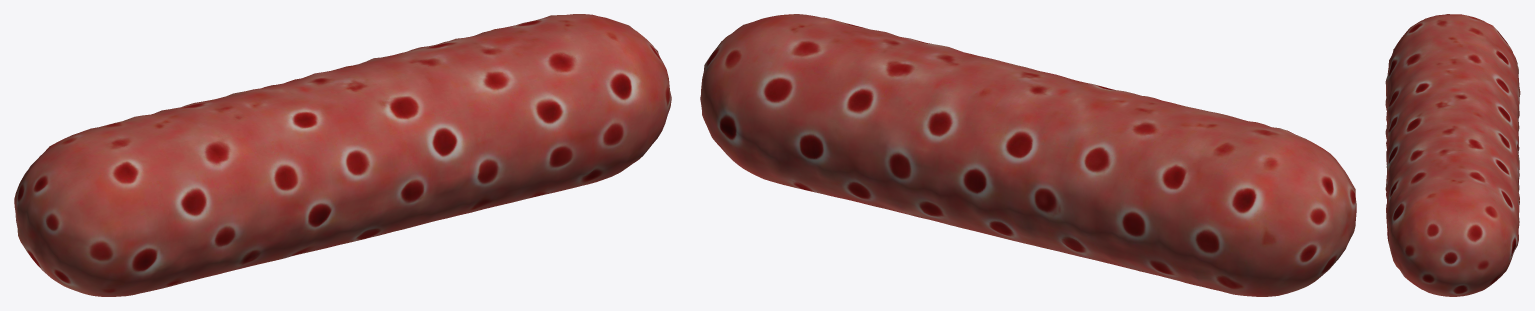
Rendered from Chorizo.fbx.
The picture shows the model from 3 angles, left to right: view 1: azimuth 30°, elevation 25°; view 2: azimuth 150°, elevation 25°; view 3: azimuth 270°, elevation 25°; orthographic projection. The views are drawn at different scales.
Visible parts, largest first — view 1: mesh; view 2: mesh; view 3: mesh.
Boxes of the visible parts, box(x1,y1,x2,y2) form: mesh: box(14, 14, 671, 296); mesh: box(700, 14, 1356, 296); mesh: box(1385, 14, 1520, 296).
Bounding box in the file's own units: 99.94 × 23.11 × 26.1.
